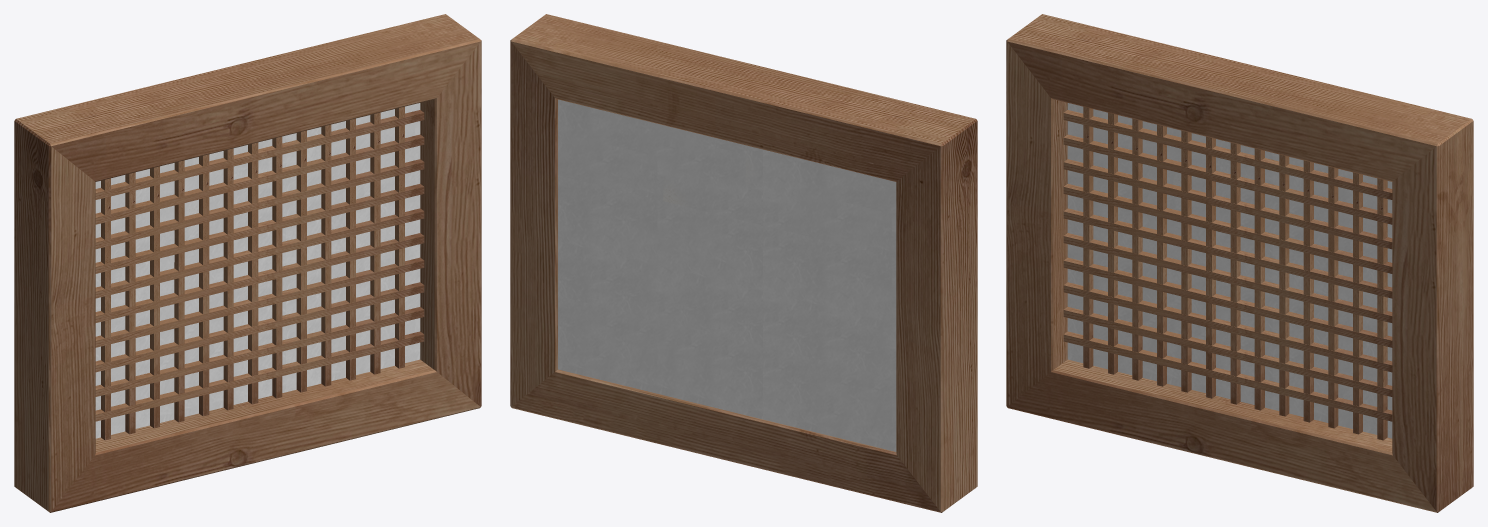
File: SM_Yeonkyung_W_Haenggak_Win_A_001.fbx
3 views of the same model, side by side, from view 1: azimuth 30°, elevation 25°; view 2: azimuth 150°, elevation 25°; view 3: azimuth 330°, elevation 25° (orthographic).
Parts seen in each view (by area): view 1: SM_Yeonkyung_W_Haenggak_Win_A_001; view 2: SM_Yeonkyung_W_Haenggak_Win_A_001; view 3: SM_Yeonkyung_W_Haenggak_Win_A_001.
Boxes of the visible parts, left/top/right/bottom form: SM_Yeonkyung_W_Haenggak_Win_A_001: left=14, top=14, right=481, bottom=512; SM_Yeonkyung_W_Haenggak_Win_A_001: left=510, top=14, right=977, bottom=512; SM_Yeonkyung_W_Haenggak_Win_A_001: left=1006, top=14, right=1473, bottom=512.
Bounding box in the file's own units: 83 × 67.62 × 12.
